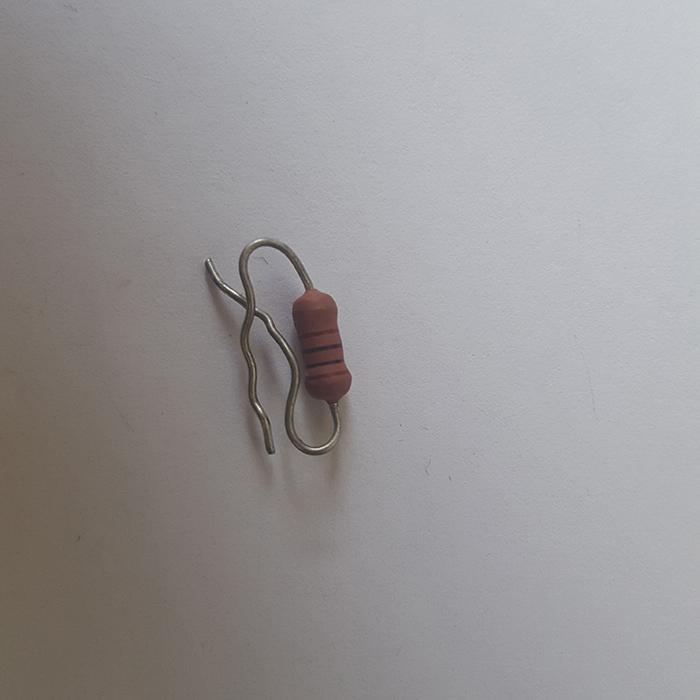resistor: (291, 288, 352, 402)
